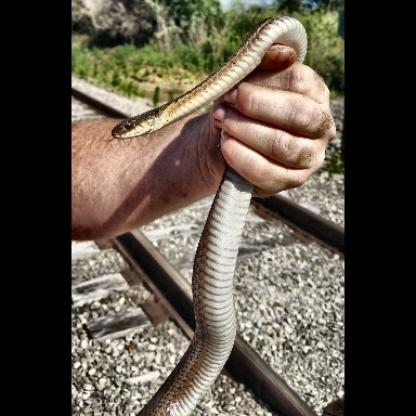Snake: (109, 4, 349, 416)
